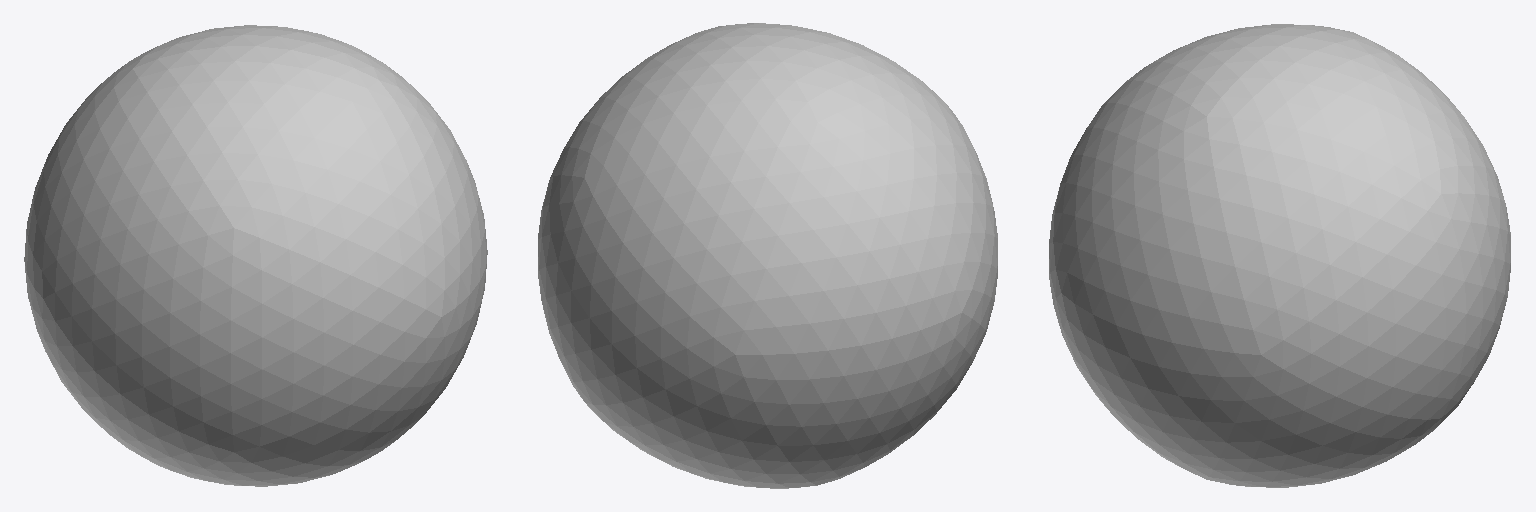
File: spherer-param.obj
The picture shows the model from 3 angles: view 1: azimuth 30°, elevation 25°; view 2: azimuth 150°, elevation 25°; view 3: azimuth 270°, elevation 25°; orthographic projection.
Visible parts, largest first — view 1: default; view 2: default; view 3: default.
Part boxes in pixels (bbox=[...]): default: bbox=[24, 25, 487, 486]; default: bbox=[538, 23, 997, 488]; default: bbox=[1049, 24, 1510, 487].
Size of the model in its own units: 0.5434 by 0.5362 by 0.535.